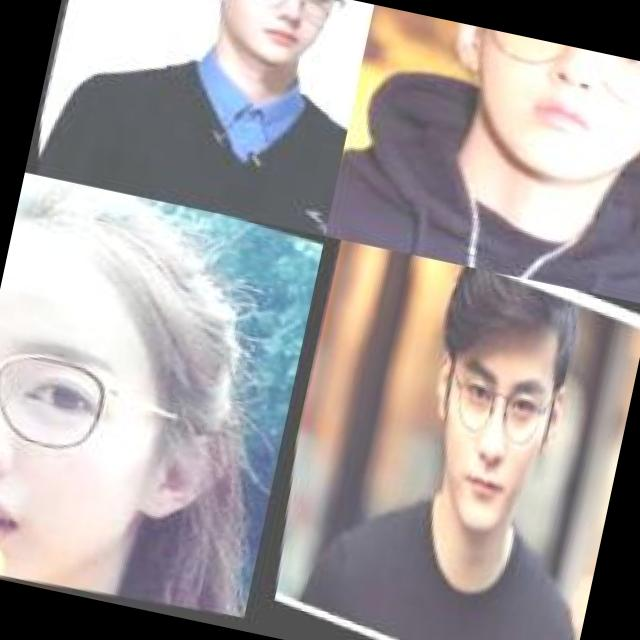glasses: (0, 324, 199, 514), (444, 22, 640, 133), (424, 348, 564, 471), (209, 0, 348, 38)
